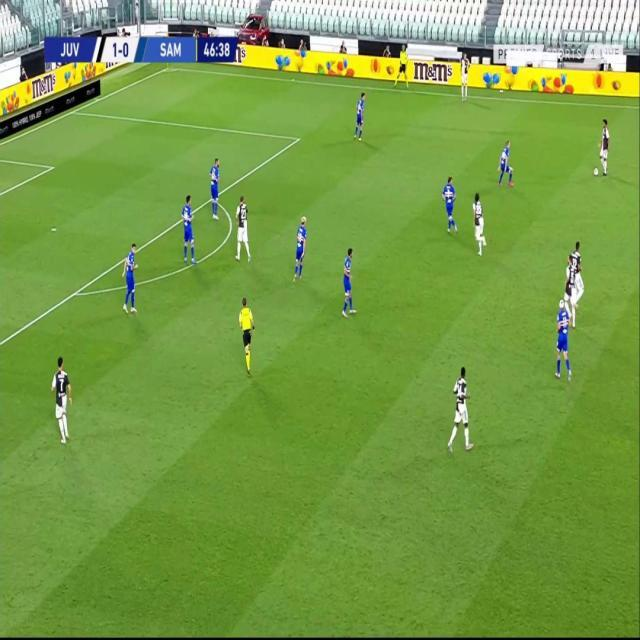ball: (593, 165, 599, 177)
player: (447, 362, 473, 455), (562, 240, 585, 328), (50, 355, 72, 445), (553, 295, 573, 385), (121, 240, 140, 316), (340, 244, 358, 317), (180, 192, 197, 265), (234, 193, 251, 264), (441, 174, 460, 236), (471, 190, 488, 257), (292, 212, 308, 282), (496, 138, 515, 190), (208, 156, 222, 221), (597, 117, 611, 177), (353, 90, 366, 141), (460, 51, 470, 99)
referee: (238, 294, 255, 375), (397, 42, 411, 86)
